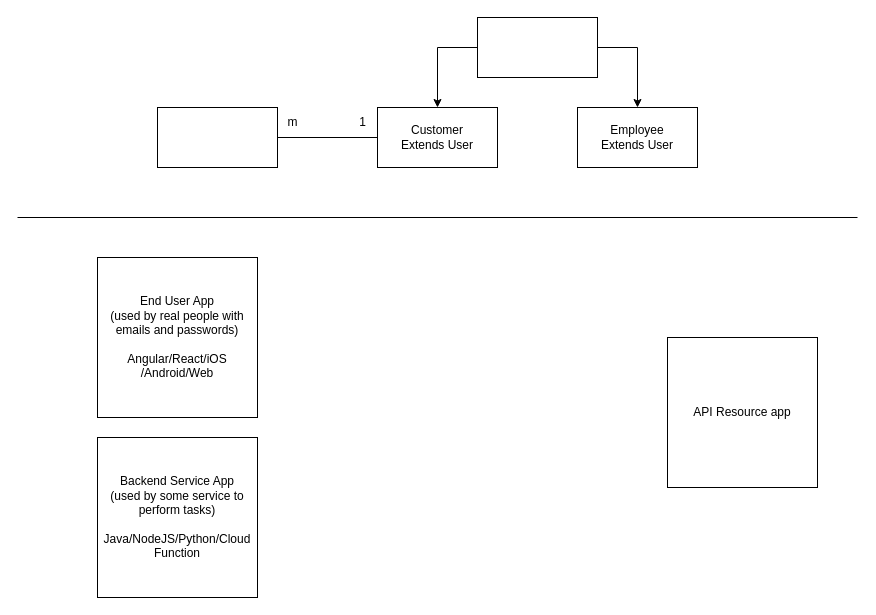
This 876x615 diagram has some shape labels left out. The shapes that lost their labels are listed below. From the top down, each one's box as (x1, y1, x2, y2) in pixels, then its label:
(476, 16, 598, 78): User
(156, 106, 278, 168): Links
